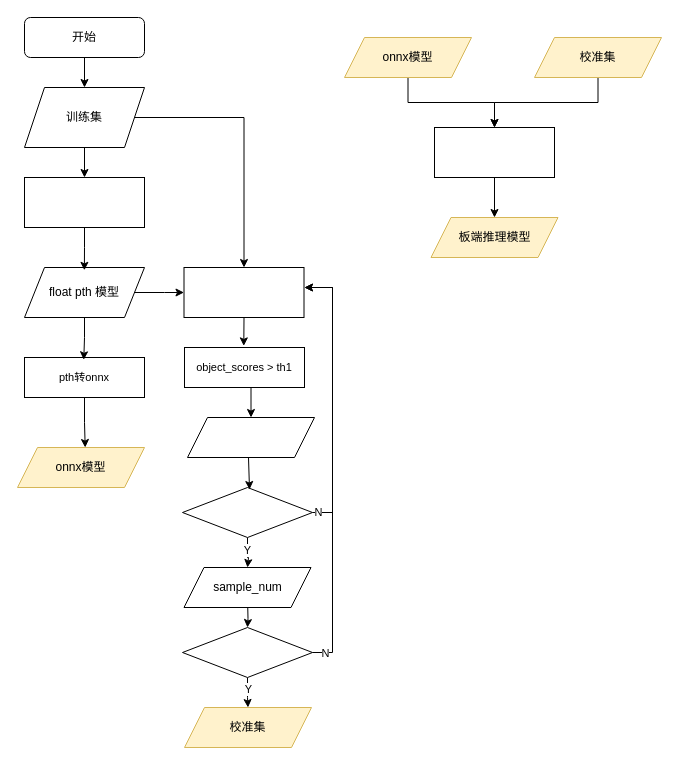
Some shapes in this 679 by 765 pixel diagram are drawn without their labels. The box of each missing label's shape, as (x1, y1, x2, y2) in pixels:
object_num: (186, 416, 314, 458)
object_num > thr2: (182, 486, 312, 538)
sample_num > thr3: (182, 626, 312, 678)
单帧模型推理: (183, 266, 304, 318)
模型训练: (24, 176, 144, 228)
量化算法: (434, 126, 554, 178)
